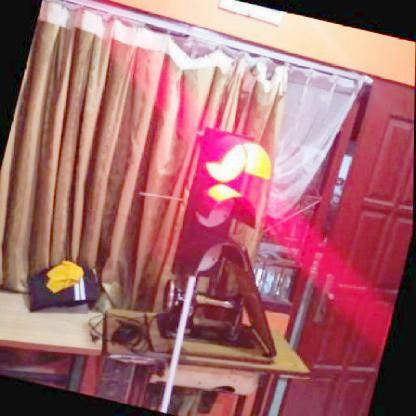Traffic Light -Red-: (170, 130, 278, 291)
